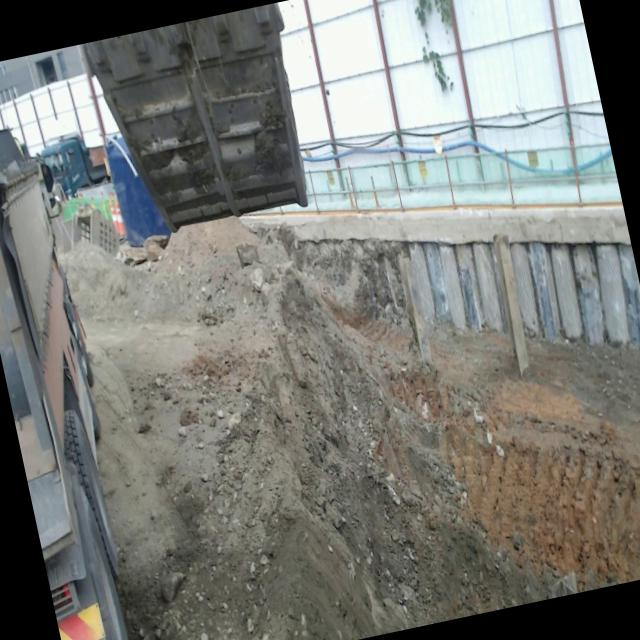red-sand: (168, 268, 640, 640)
